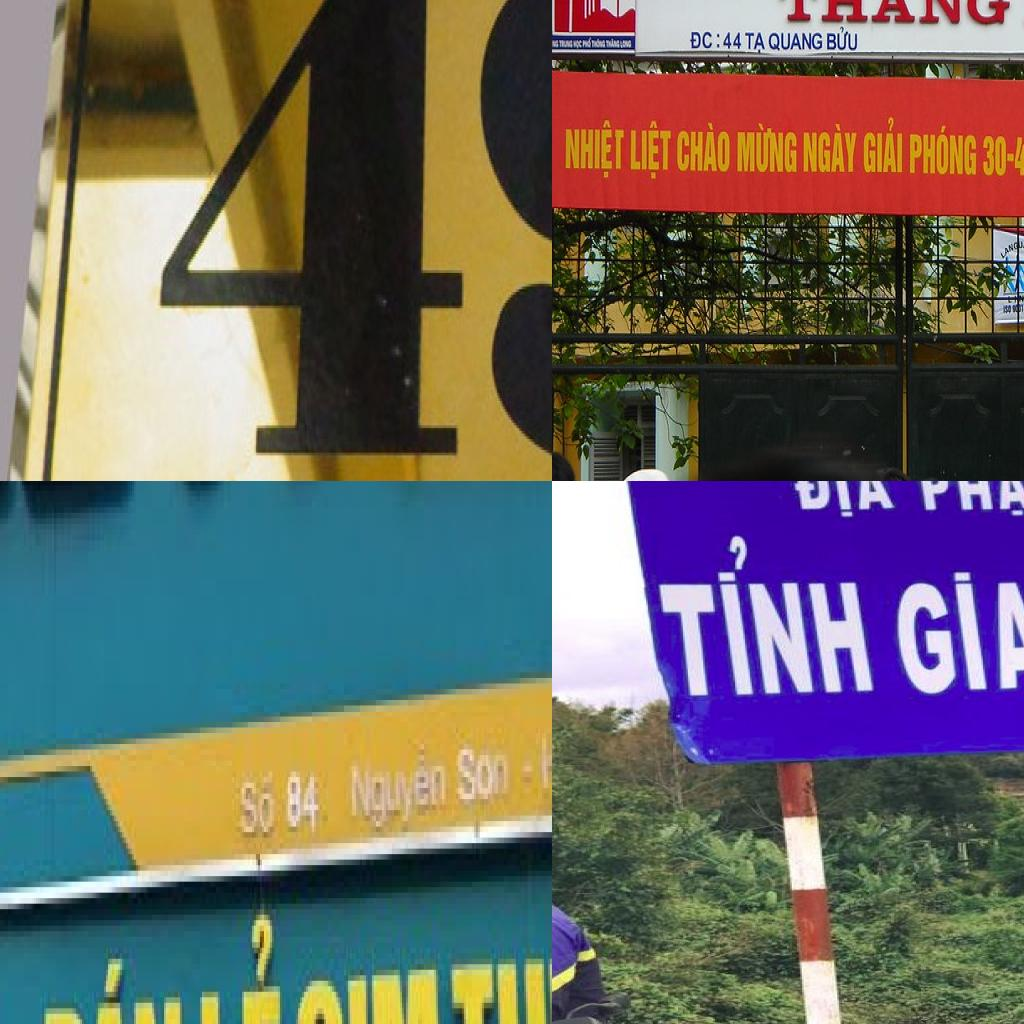text: (145, 0, 552, 474), (644, 532, 876, 701), (882, 566, 1024, 697), (350, 739, 450, 854), (40, 953, 186, 1024), (196, 909, 286, 1024), (296, 964, 444, 1024), (780, 0, 1011, 26), (456, 738, 514, 816), (911, 481, 1024, 521), (792, 481, 902, 520), (236, 755, 278, 849), (564, 120, 626, 180), (910, 126, 978, 178), (284, 760, 322, 848), (736, 122, 798, 174), (803, 122, 860, 174), (676, 122, 731, 174), (630, 122, 673, 182), (863, 116, 904, 175), (983, 134, 1024, 178), (538, 722, 552, 804), (768, 32, 824, 52), (689, 30, 722, 50), (745, 30, 768, 54), (999, 238, 1019, 262), (723, 32, 743, 52), (559, 39, 574, 49), (592, 39, 606, 49), (606, 39, 620, 49), (1002, 304, 1013, 315), (583, 38, 593, 50), (620, 40, 632, 49), (552, 37, 560, 49), (1018, 240, 1024, 256), (573, 40, 583, 49)
